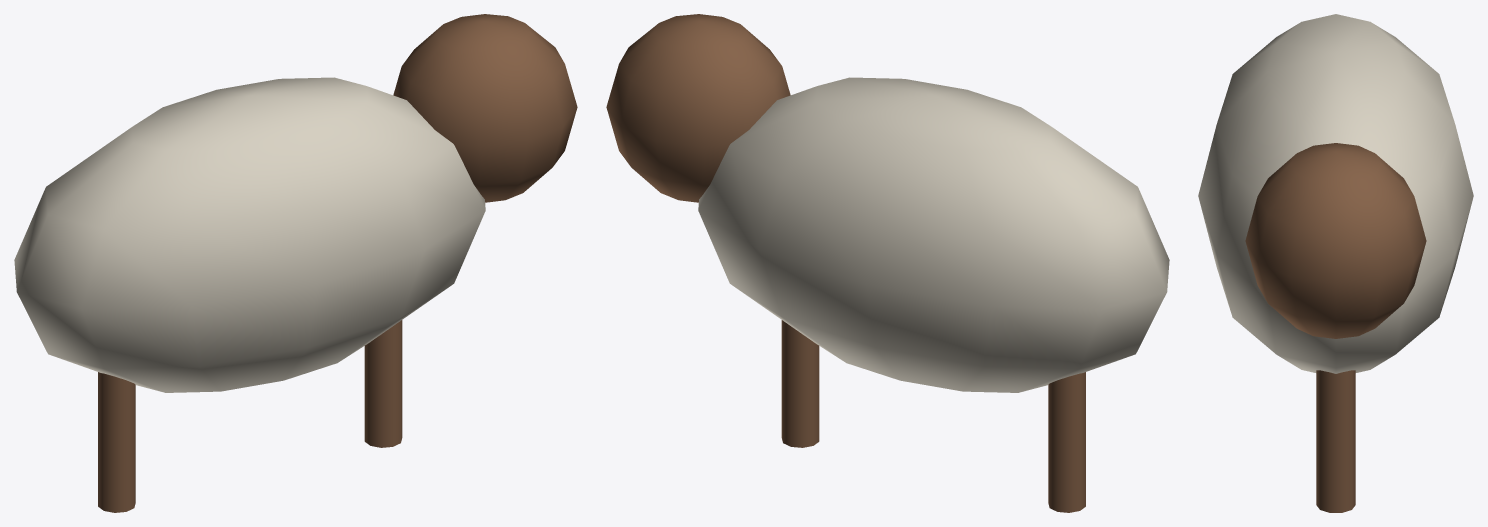
File: sheep.glb
The picture shows the model from 3 angles, left to right: view 1: azimuth 30°, elevation 25°; view 2: azimuth 150°, elevation 25°; view 3: azimuth 270°, elevation 25°; orthographic projection. The views are drawn at different scales.
Visible parts, largest first — view 1: sheep; view 2: sheep; view 3: sheep.
Part boxes in pixels (x1,y1,x2,y2): sheep: (14,14,577,512); sheep: (606,14,1169,512); sheep: (1198,14,1473,512).
Bounding box in the file's own units: 0.3713 × 0.2542 × 0.1575.
